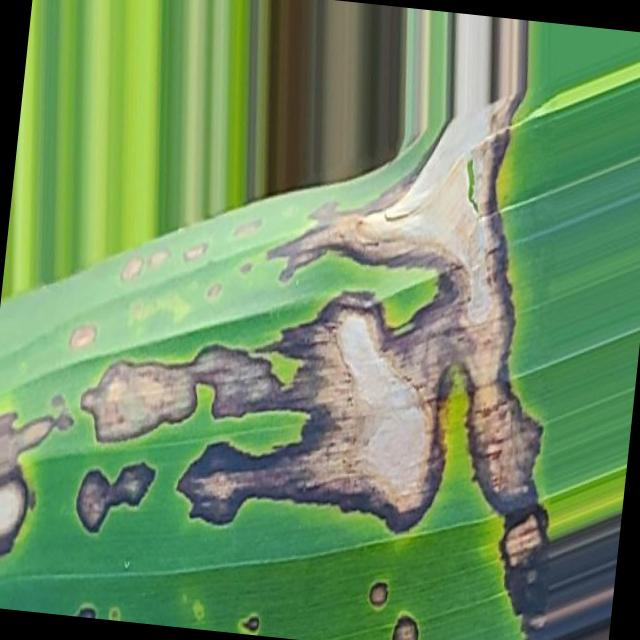Banana_Black_Sigatoka: (236, 116, 640, 640), (0, 272, 260, 631)
